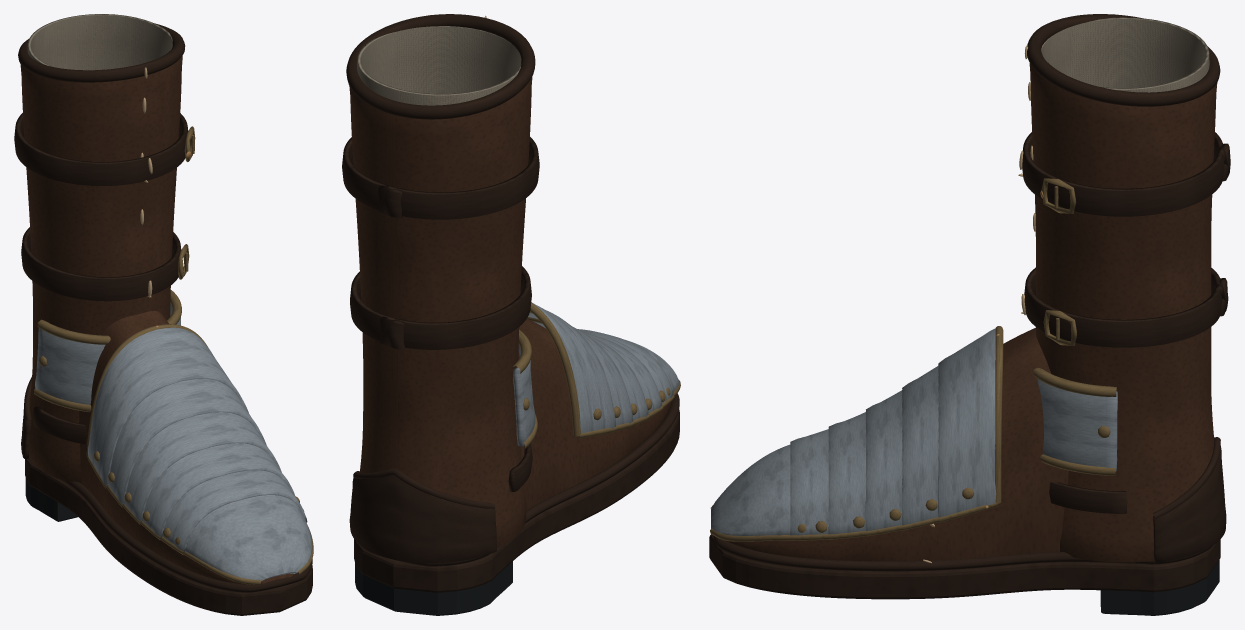
3 renders of one model, left to right at view 1: azimuth 30°, elevation 25°; view 2: azimuth 150°, elevation 25°; view 3: azimuth 270°, elevation 25°, orthographic. The views are drawn at different scales.
Parts seen in each view (by area): view 1: hammered plate, tanned leather, oiled strap leather, quilted linen lining, aged alloy edge, recess and lining; view 2: tanned leather, oiled strap leather, quilted linen lining, hammered plate, recess and lining, aged alloy edge; view 3: tanned leather, oiled strap leather, hammered plate, quilted linen lining, aged alloy edge, recess and lining.
Boxes of the visible parts, x1,y1,x2,y2 form: hammered plate: [35, 303, 312, 581]; tanned leather: [20, 55, 294, 583]; oiled strap leather: [14, 23, 312, 615]; quilted linen lining: [27, 14, 172, 70]; aged alloy edge: [34, 126, 313, 585]; recess and lining: [25, 478, 77, 521]; tanned leather: [349, 77, 671, 547]; oiled strap leather: [342, 14, 679, 592]; quilted linen lining: [357, 26, 521, 105]; hammered plate: [513, 302, 679, 446]; recess and lining: [355, 561, 512, 615]; aged alloy edge: [512, 302, 680, 448]; tanned leather: [727, 63, 1217, 562]; oiled strap leather: [709, 14, 1230, 599]; hammered plate: [711, 328, 1117, 535]; quilted linen lining: [1041, 17, 1209, 92]; aged alloy edge: [710, 178, 1116, 541]; recess and lining: [1100, 560, 1219, 615].
Bounding box in the file's own units: 0.109 × 0.3199 × 0.2795.
Materials: 8 (5 with a texture image).
